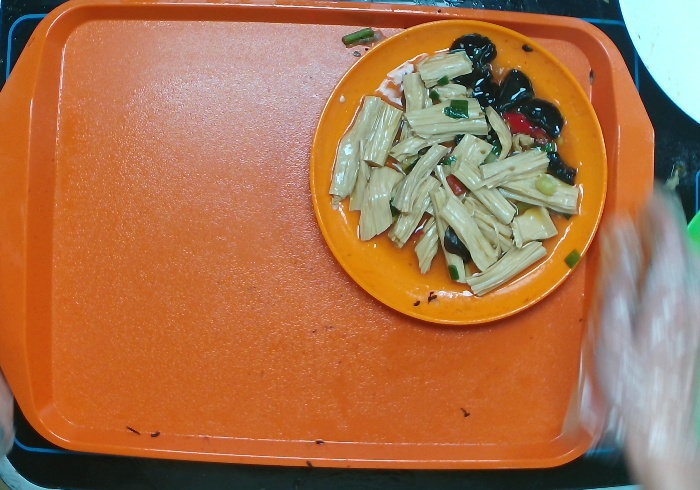HZYJPL-Ju_Huang_Yuan_Pan: (302, 15, 613, 334)
